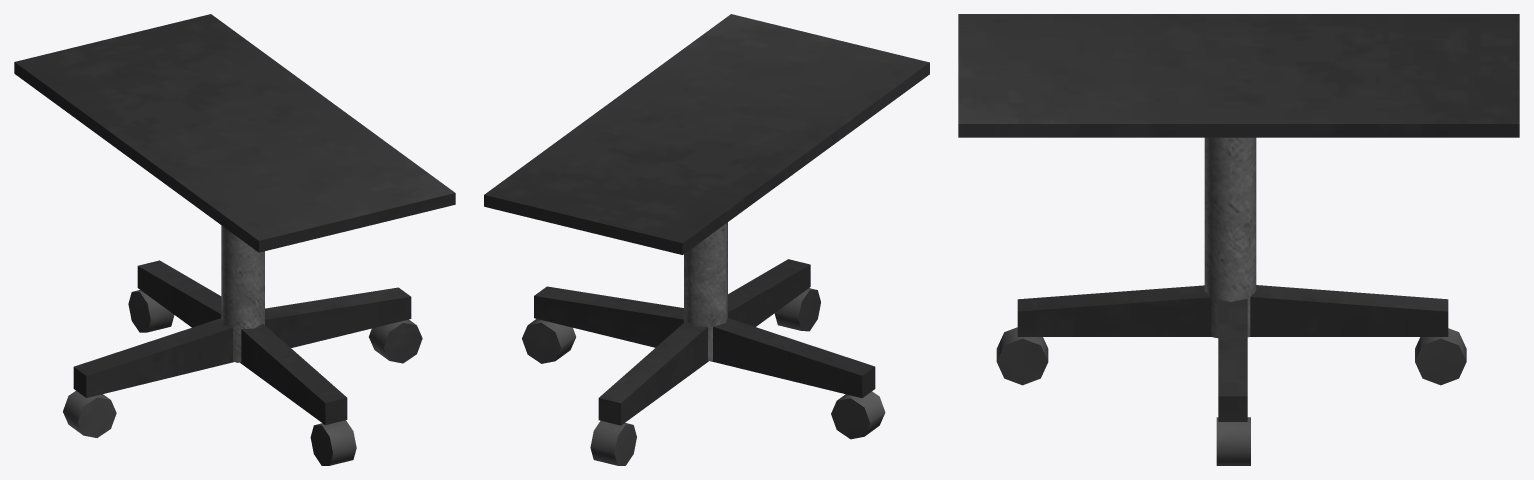
Rendered from TV1_Stand.fbx.
3 renders of one model, left to right at view 1: azimuth 30°, elevation 25°; view 2: azimuth 150°, elevation 25°; view 3: azimuth 270°, elevation 25°, orthographic. The views are drawn at different scales.
Visible parts, largest first — view 1: Cylinder.034; view 2: Cylinder.034; view 3: Cylinder.034.
Boxes of the visible parts, bbox=[...] form: Cylinder.034: bbox=[14, 14, 455, 465]; Cylinder.034: bbox=[484, 14, 929, 465]; Cylinder.034: bbox=[958, 14, 1519, 465].
Bounding box in the file's own units: 112 × 82.94 × 137.
Materials: 1 (1 with a texture image).
